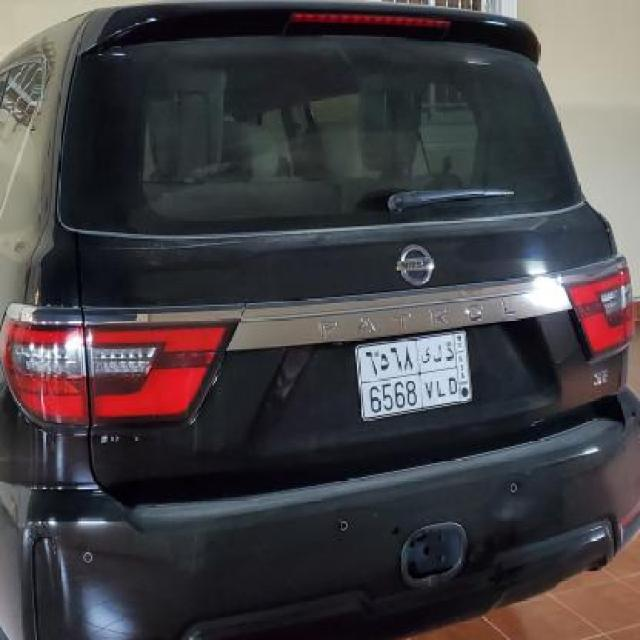license_plate: (354, 328, 474, 424)
